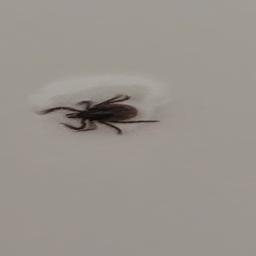Rhipicephalus sanguineus: (35, 94, 159, 135)
